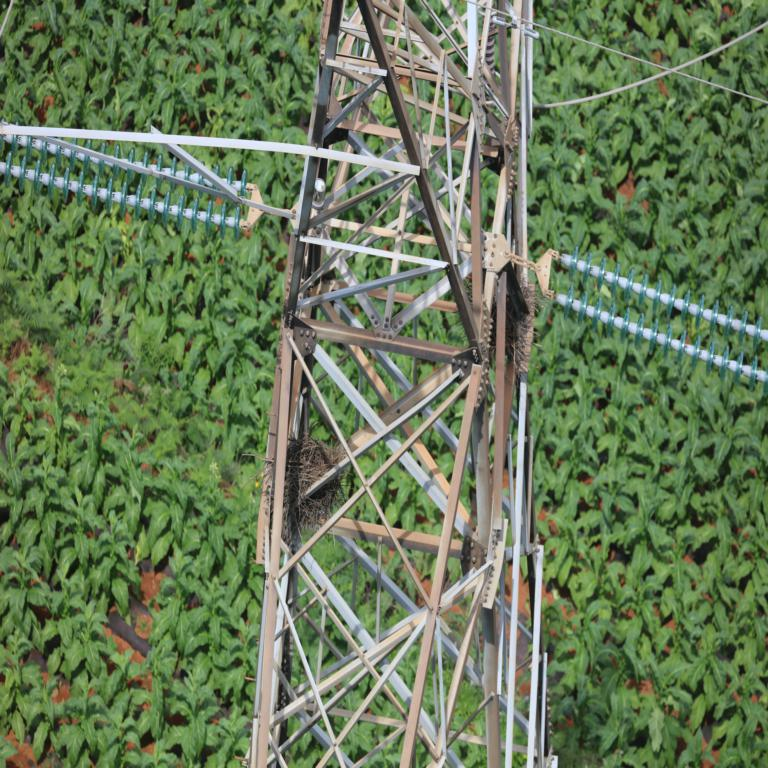nest: (284, 439, 347, 536)
